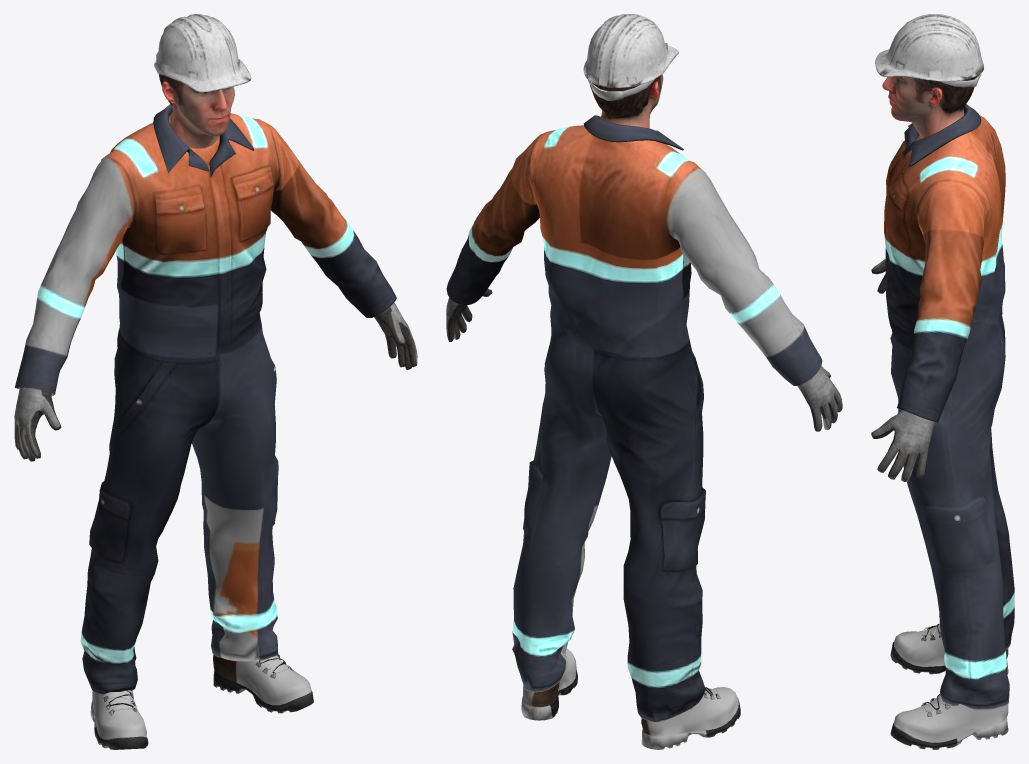
File: worker_apl.glb
The picture shows the model from 3 angles, left to right: view 1: azimuth 30°, elevation 25°; view 2: azimuth 150°, elevation 25°; view 3: azimuth 270°, elevation 25°; orthographic projection. The views are drawn at different scales.
Parts seen in each view (by area): view 1: g (×2); view 2: g (×2); view 3: g (×2).
Boxes of the visible parts, x1=… form: g (×2): x1=14, y1=14, x2=417, y2=749; g (×2): x1=446, y1=14, x2=842, y2=749; g (×2): x1=871, y1=14, x2=1014, y2=749.
Size of the model in its own units: 42.35 by 72.92 by 13.82.
2 materials, 2 textured.
